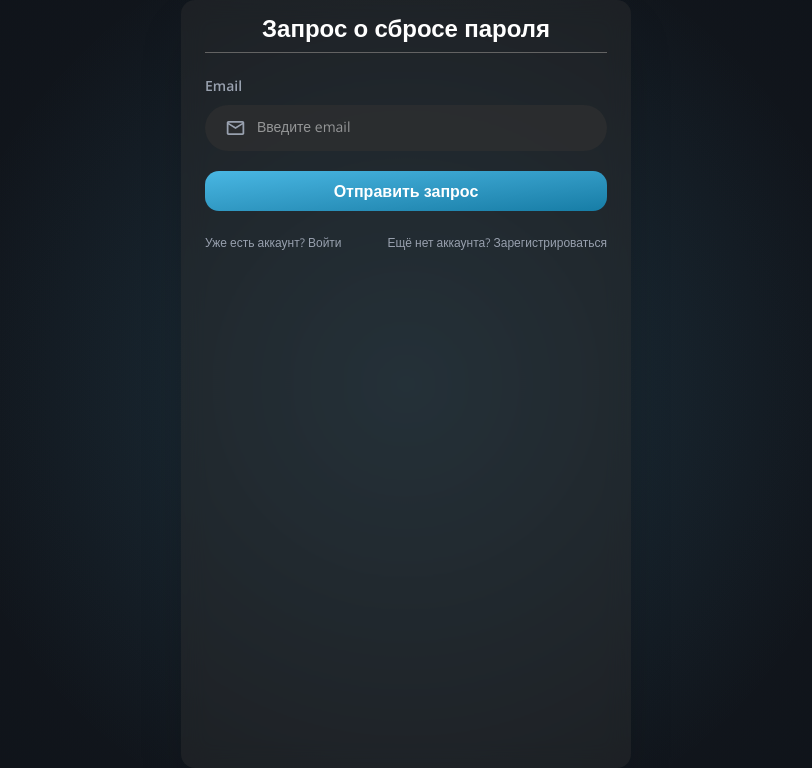
Test: Reset password form › should be send reset password mail if not valid data
Type "123" into the field with placeholder "Введите email". click: (406, 128)
box: [205,105,607,151]
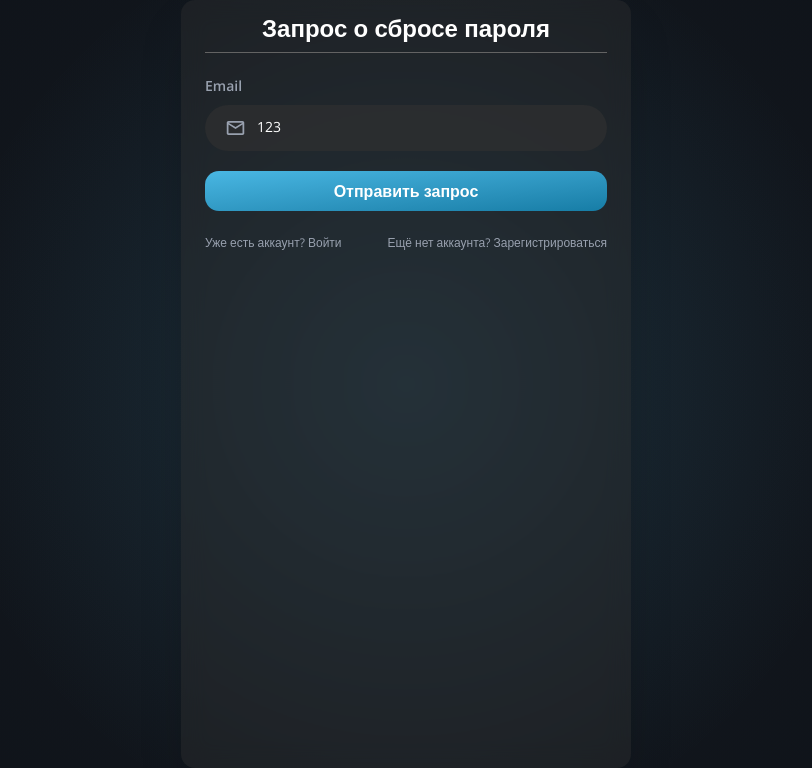
Click the button "Отправить запрос". click: (406, 191)
box: [205,171,607,211]
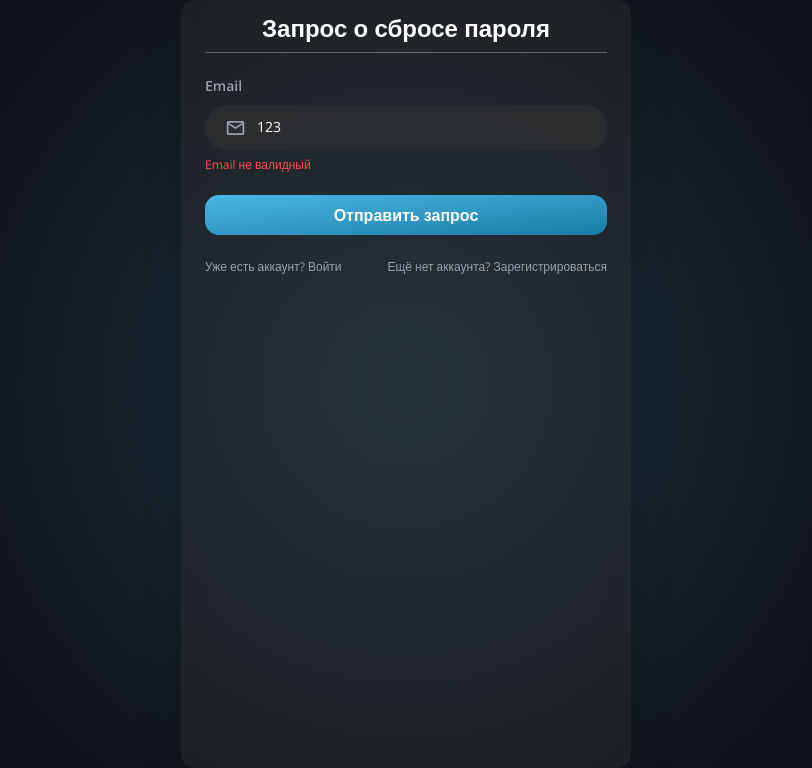
Expected: the text "Email не валидный" is shown, [205,156,311,173]
